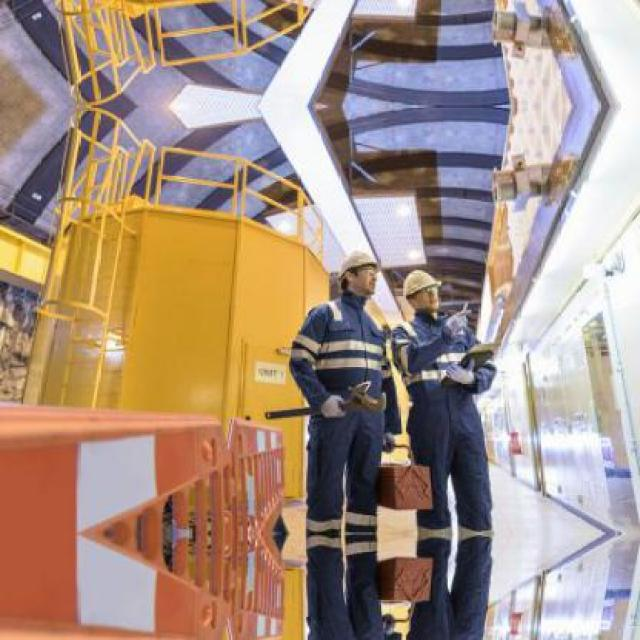helmet: (340, 241, 380, 297), (402, 264, 442, 314)
